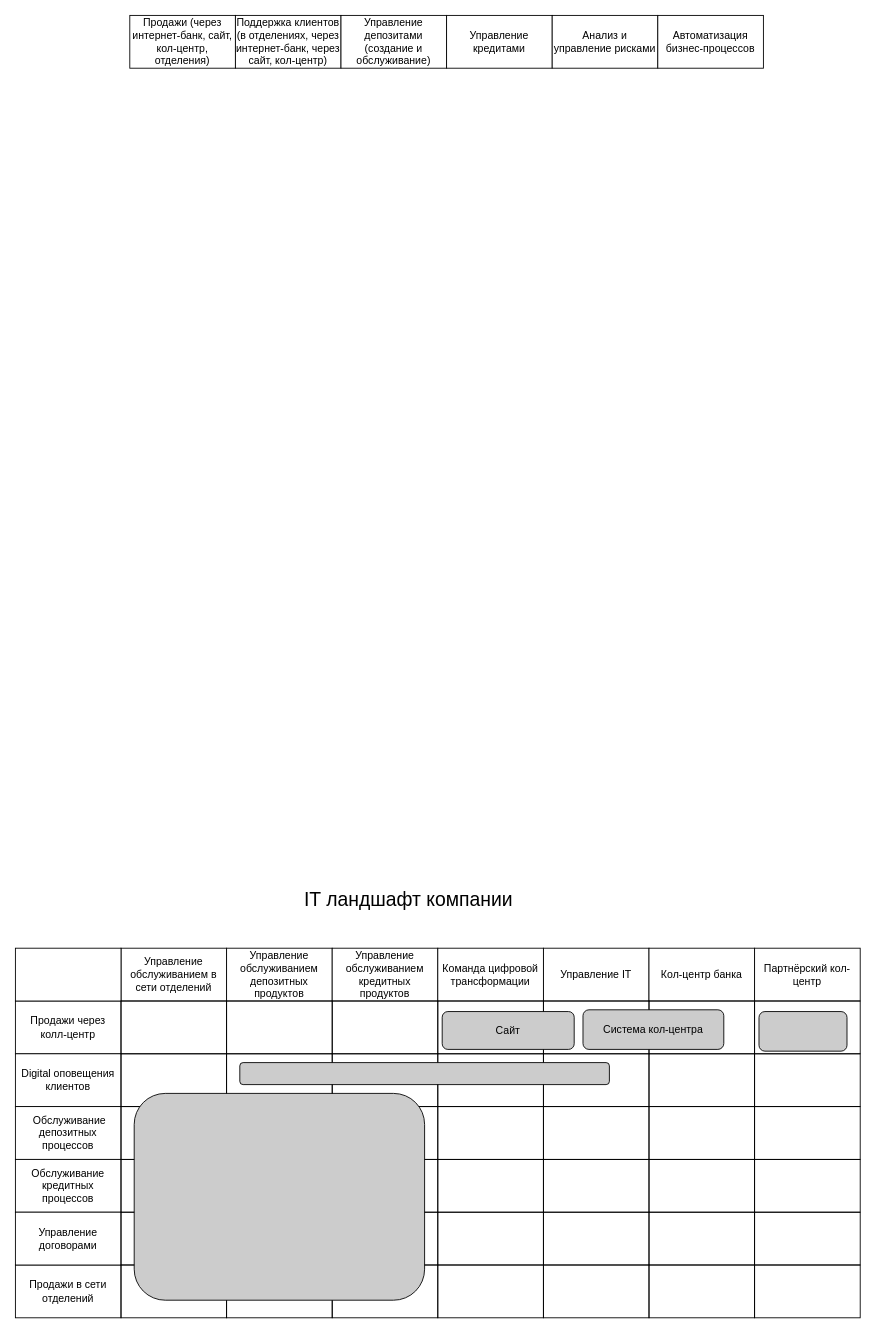
Image size: 876x1333. Some labels were removed from this diagram. The shapes that lost their labels are listed below. From the top down, each one's centre as x and y in pixels, then its label:
At [802,1031]: "Система партнерского кол-центра".
At [424,1073]: "Интернет банк".
At [279,1196]: "АБС".
